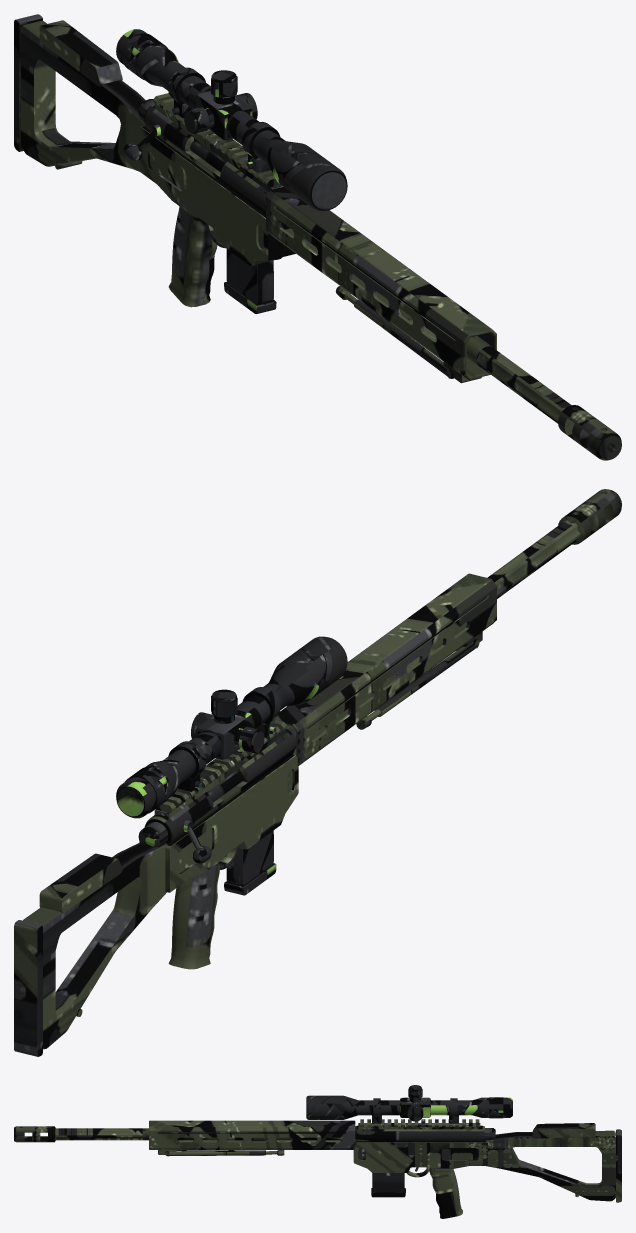
File: sniper.glb
The picture shows the model from 3 angles, top to bottom: view 1: azimuth 30°, elevation 25°; view 2: azimuth 150°, elevation 25°; view 3: azimuth 270°, elevation 25°; orthographic projection. The views are drawn at different scales.
Visible parts, largest first — view 1: Sniper_Body, Sniper_Optic, Sniper_Mag, Sniper_Lens, Sniper_Slide; view 2: Sniper_Body, Sniper_Optic, Sniper_Mag, Sniper_Slide; view 3: Sniper_Body, Sniper_Optic, Sniper_Mag, Sniper_Glow.
Boxes of the visible parts, x1,y1,x2,y2 form: Sniper_Body: [14, 14, 621, 460]; Sniper_Optic: [116, 29, 347, 210]; Sniper_Mag: [224, 249, 276, 313]; Sniper_Lens: [311, 172, 346, 209]; Sniper_Slide: [123, 99, 160, 161]; Sniper_Body: [14, 489, 621, 1056]; Sniper_Optic: [116, 636, 347, 818]; Sniper_Mag: [224, 830, 276, 895]; Sniper_Slide: [138, 820, 211, 863]; Sniper_Body: [14, 1119, 621, 1218]; Sniper_Optic: [306, 1085, 512, 1123]; Sniper_Mag: [371, 1173, 405, 1197]; Sniper_Glow: [159, 1132, 345, 1133].
Size of the model in its own units: 0.261 by 0.9207 by 3.95.
2 materials, 2 textured.
